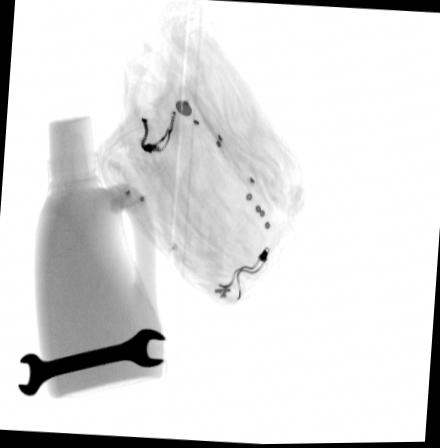Wrench: (15, 327, 171, 398)
